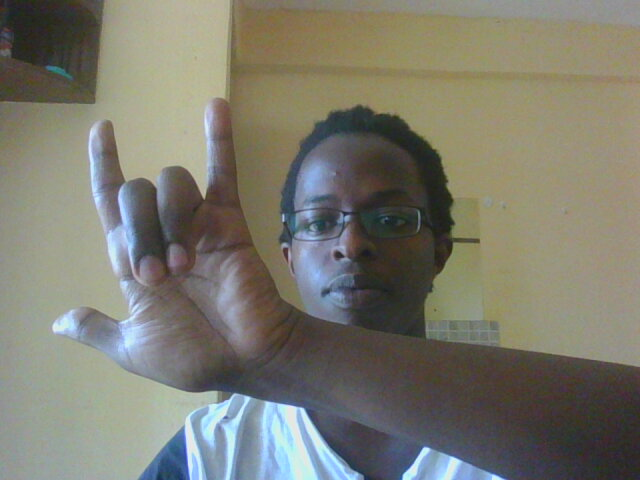I Love You: (33, 91, 313, 403)
